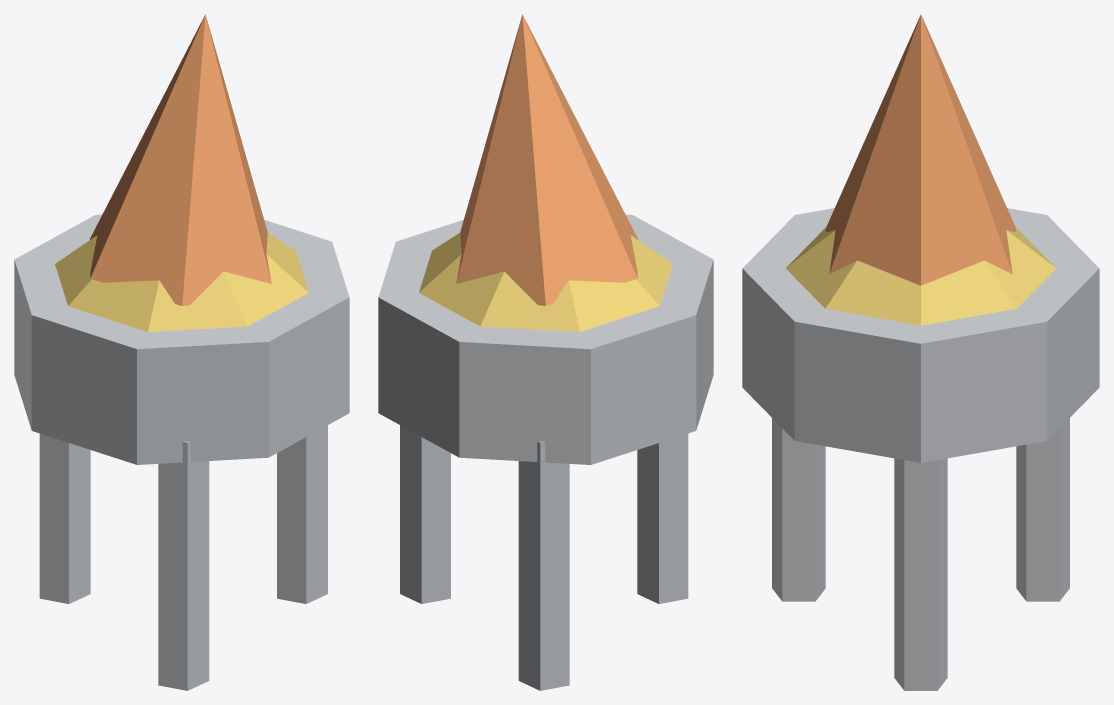
File: animprop_brazier_01.glb
3 renders of one model, left to right at view 1: azimuth 30°, elevation 25°; view 2: azimuth 150°, elevation 25°; view 3: azimuth 270°, elevation 25°, orthographic. The views are drawn at different scales.
Visible parts, largest first — view 1: animprop; view 2: animprop; view 3: animprop.
Part boxes in pixels (left/top/right/bottom): animprop: left=14, top=14, right=349, bottom=690; animprop: left=378, top=14, right=713, bottom=690; animprop: left=742, top=14, right=1099, bottom=690.
Size of the model in its own units: 0.76 by 1.46 by 0.76.
